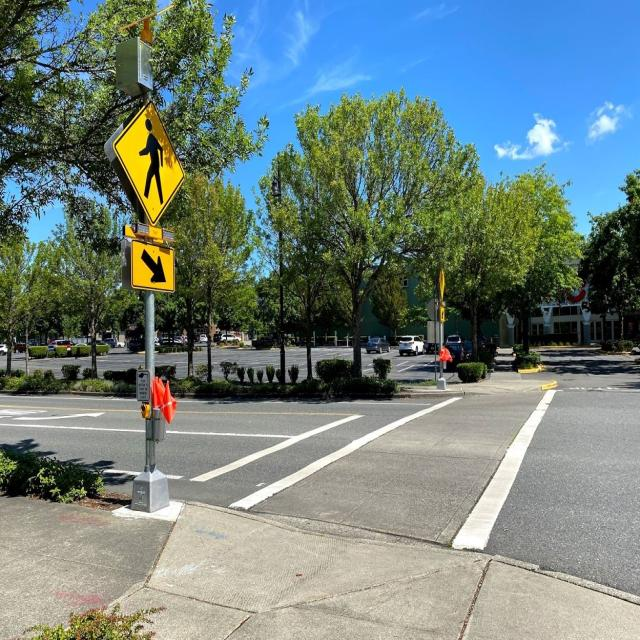road_crosswalk: (231, 388, 559, 555)
